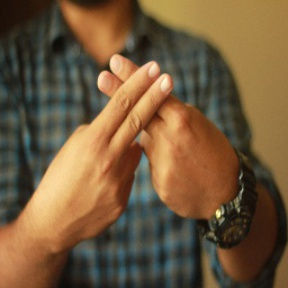F: (63, 42, 207, 177)
